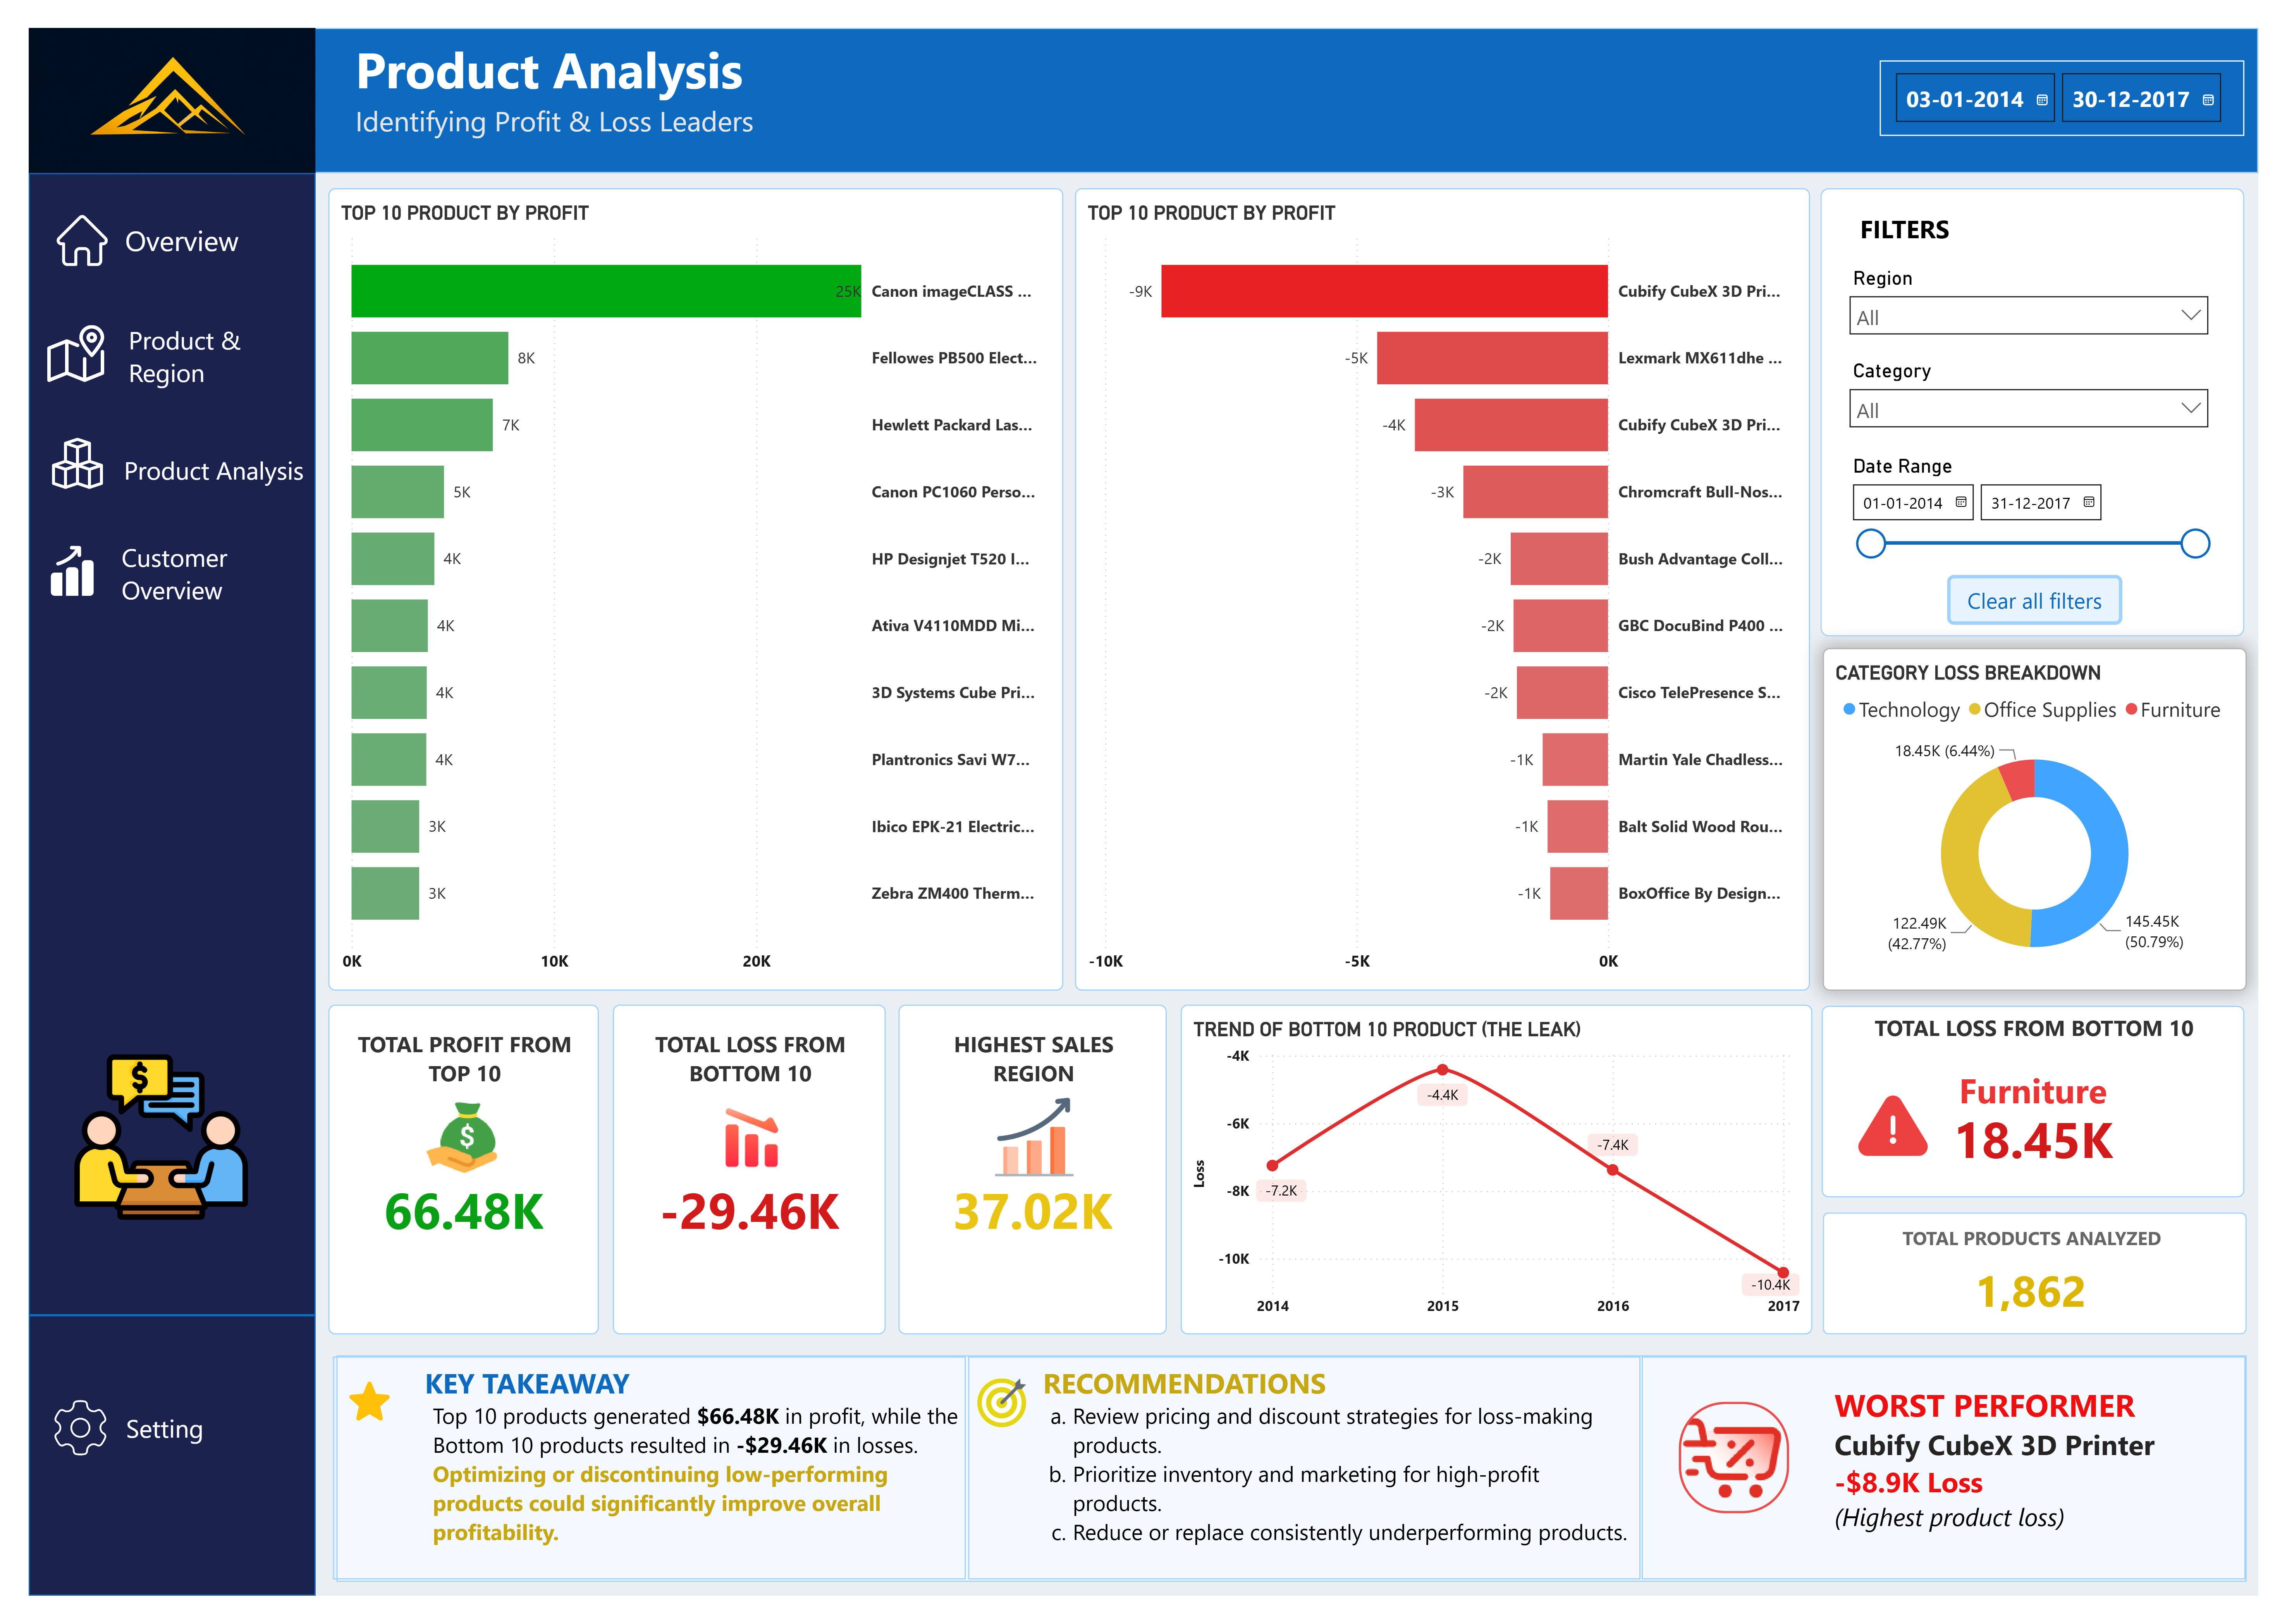

Layout of this report page (visuals, bound fields, positions):
{"tool":"powerbi","page":{"name":"ProductAnalysis","canvas":[1920,1350],"ordinal":2},"visuals":[{"type":"barChart","title":"TOP 10 PRODUCT BY PROFIT","fields":{"Category":["Superstore.Product Name"],"Y":["Sum(Superstore.Profit)"]},"box":[258.1,138.1,632.5,690.6],"z":0},{"type":"shape","box":[1543,138.1,365,386.4],"z":0,"group":"g4"},{"type":"image","box":[7.2,256.4,67.2,49.1],"z":0,"group":"g6"},{"type":"image","box":[4,352.8,76.3,43.6],"z":0,"group":"g8"},{"type":"image","box":[5.5,443.5,65.4,49.1],"z":0,"group":"g7"},{"type":"shape","box":[1544.8,1019.6,365.3,105.4],"z":0,"group":"g12"},{"type":"textbox","box":[808.7,1144,578.9,192.2],"z":0,"group":"g2"},{"type":"textbox","box":[1388.7,1144,520,192.2],"z":0,"group":"g3"},{"type":"group","id":"g1","title":"Group 8","box":[261.8,1144.5,545.3,191.7],"z":0,"group":"g11"},{"type":"textbox","box":[261.8,1144.5,545.3,191.7],"z":0,"group":"g1"},{"type":"barChart","title":"TOP 10 PRODUCT BY PROFIT","fields":{"Category":["Superstore.Product Name"],"Y":["Sum(Superstore.Profit)"]},"box":[901.5,138.1,632.5,690.6],"z":1000},{"type":"textbox","box":[81.3,249.1,172.7,76.3],"z":1000,"group":"g6"},{"type":"textbox","box":[76.7,360.7,174.5,56.3],"z":1000,"group":"g8"},{"type":"textbox","box":[76,436.2,171.2,85.4],"z":1000,"group":"g7"},{"type":"textbox","box":[1545.2,1026,359.3,38.2],"z":1000,"group":"g12"},{"type":"group","id":"g2","title":"Group 8","box":[808.7,1144,578.9,192.2],"z":1000,"group":"g11"},{"type":"cardVisual","title":"TOTAL PROFIT FROM TOP 10","fields":{"Data":["Superstore.Top 10 Profit"]},"box":[258.1,841.5,232.6,283.5],"z":2000},{"type":"cardVisual","fields":{"Data":["Count(Superstore.Product ID)"]},"box":[1622.2,1046.1,203.6,75.1],"z":2000,"group":"g12"},{"type":"group","id":"g3","title":"Group 8","box":[1388.7,1144,520,192.2],"z":2000,"group":"g11"},{"type":"cardVisual","title":"TOTAL LOSS FROM BOTTOM 10","fields":{"Data":["Superstore.Bottom 10 Loss"]},"box":[503.4,841.5,234.5,283.5],"z":3000},{"type":"cardVisual","title":"HIGHEST SALES REGION","fields":{"Data":["Superstore.Net Impact"]},"box":[748.8,841.5,230.8,283.5],"z":4000},{"type":"group","id":"g4","title":"Group 3","box":[1543,138.1,365,390.9],"z":5000},{"type":"group","id":"g5","title":"Group 1","box":[1558.2,152.8,329,376.2],"z":6000,"group":"g4"},{"type":"lineChart","title":"TREND OF BOTTOM 10 PRODUCT (THE LEAK)","fields":{"Category":["Superstore.Order Date.Variation.Date Hierarchy.Year"],"Y":["Sum(Superstore.Profit)"]},"box":[992.3,841.5,543.4,283.5],"z":6000},{"type":"donutChart","title":"CATEGORY LOSS BREAKDOWN","fields":{"Category":["Superstore.Category"],"Y":["Sum(Superstore.Profit)"]},"box":[1544.8,534.3,365.3,294.4],"z":7000},{"type":"textbox","box":[246.1,0,1673.9,125.4],"z":8000},{"type":"shape","box":[0,125,247.2,1225],"z":9000},{"type":"group","id":"g6","title":"Group 2","box":[7.2,249.1,246.8,76.3],"z":10000},{"type":"image","box":[6,161.3,80,43.6],"z":11000,"group":"g9"},{"type":"group","id":"g7","title":"Group 4","box":[5.5,436.2,241.7,85.4],"z":11000},{"type":"group","id":"g8","title":"Group 4","box":[4,352.8,247.2,64.2],"z":12000},{"type":"textbox","box":[77.5,161.5,145,48],"z":12002,"group":"g9"},{"type":"shape","box":[265.1,1142.6,1644.9,194.7],"z":12500,"group":"g10"},{"type":"group","id":"g9","title":"Group 5","box":[6,161.3,216.5,48.2],"z":13000},{"type":"image","box":[0,0,247.2,125.4],"z":14000},{"type":"group","id":"g10","title":"Group 7","box":[261.8,1142.6,1648.2,194.7],"z":15000},{"type":"slicer","fields":{"Values":["Superstore.Region"]},"box":[1558.2,200.1,329,81.8],"z":16000,"group":"g5"},{"type":"image","box":[810.6,1163.2,54.5,41.8],"z":16000},{"type":"group","id":"g11","title":"Group 6","box":[261.8,1144,1646.9,192.2],"z":16003,"group":"g10"},{"type":"textbox","box":[1572.1,152.8,132.4,48.8],"z":17000,"group":"g5"},{"type":"image","box":[276.3,1163.2,34.5,38.2],"z":17000},{"type":"slicer","fields":{"Values":["Superstore.Order Date"]},"box":[1593.6,27.7,314.4,65.2],"z":18000},{"type":"slicer","fields":{"Values":["Superstore.Category"]},"box":[1558.2,280,329,85.4],"z":18000,"group":"g5"},{"type":"slicer","fields":{"Values":["Date Table.Date"]},"box":[1558.2,361.8,329,167.2],"z":19000,"group":"g5"},{"type":"image","box":[19.8,879.8,187.8,150.3],"z":19000},{"type":"image","box":[19.8,1166.5,49.4,77.1],"z":20000},{"type":"textbox","box":[73.2,1186.3,152.2,57.3],"z":21000},{"type":"shape","box":[0,1079.5,247.1,57.3],"z":22000},{"type":"image","box":[1421.2,1183.2,94.5,96.3],"z":23000},{"type":"image","box":[338,917.8,72.7,74.5],"z":24000},{"type":"image","box":[588.9,917.8,67.2,74.5],"z":25000},{"type":"image","box":[832.4,917.8,67.2,74.5],"z":26000},{"type":"actionButton","box":[1652.1,470.7,150.8,43.6],"z":27000},{"type":"group","id":"g12","title":"Group 3","box":[1544.8,1019.6,365.3,105.4],"z":28000},{"type":"cardVisual","title":"TOTAL LOSS FROM BOTTOM 10","fields":{"Data":["Sum(Superstore.Profit)"],"Rows":["Superstore.Category"]},"box":[1544.2,842.3,363.8,165],"z":29000},{"type":"image","box":[1571.8,907.5,67.2,75.1],"z":30000}]}

Visuals, with their boxes in screenshot pixels (x1, y1, x2, y2), scaled from the page's 1920x1350 canvas onto the 2287x1624 screenshot:
"TOP 10 PRODUCT BY PROFIT" barChart: x1=308 y1=166 x2=1061 y2=997
shape: x1=1838 y1=166 x2=2273 y2=631
image: x1=9 y1=308 x2=89 y2=368
image: x1=5 y1=425 x2=96 y2=477
image: x1=7 y1=533 x2=84 y2=593
shape: x1=1840 y1=1227 x2=2275 y2=1353
textbox: x1=963 y1=1376 x2=1653 y2=1607
textbox: x1=1654 y1=1376 x2=2273 y2=1607
"Group 8" group: x1=312 y1=1377 x2=961 y2=1607
textbox: x1=312 y1=1377 x2=961 y2=1607
"TOP 10 PRODUCT BY PROFIT" barChart: x1=1074 y1=166 x2=1827 y2=997
textbox: x1=97 y1=300 x2=303 y2=391
textbox: x1=91 y1=434 x2=299 y2=502
textbox: x1=91 y1=525 x2=294 y2=628
textbox: x1=1840 y1=1234 x2=2268 y2=1280
"Group 8" group: x1=963 y1=1376 x2=1653 y2=1607
"TOTAL PROFIT FROM TOP 10" cardVisual: x1=308 y1=1012 x2=585 y2=1353
cardVisual - Count(Superstore.Product ID): x1=1932 y1=1258 x2=2175 y2=1349
"Group 8" group: x1=1654 y1=1376 x2=2273 y2=1607
"TOTAL LOSS FROM BOTTOM 10" cardVisual: x1=600 y1=1012 x2=879 y2=1353
"HIGHEST SALES REGION" cardVisual: x1=892 y1=1012 x2=1167 y2=1353
"Group 3" group: x1=1838 y1=166 x2=2273 y2=637
"Group 1" group: x1=1856 y1=184 x2=2248 y2=637
"TREND OF BOTTOM 10 PRODUCT (THE LEAK)" lineChart: x1=1182 y1=1012 x2=1829 y2=1353
"CATEGORY LOSS BREAKDOWN" donutChart: x1=1840 y1=643 x2=2275 y2=997
textbox: x1=293 y1=0 x2=2287 y2=151
shape: x1=0 y1=150 x2=294 y2=1624
"Group 2" group: x1=9 y1=300 x2=303 y2=391
image: x1=7 y1=194 x2=102 y2=246
"Group 4" group: x1=7 y1=525 x2=294 y2=628
"Group 4" group: x1=5 y1=425 x2=299 y2=502
textbox: x1=92 y1=194 x2=265 y2=252
shape: x1=316 y1=1375 x2=2275 y2=1609
"Group 5" group: x1=7 y1=194 x2=265 y2=252
image: x1=0 y1=0 x2=294 y2=151
"Group 7" group: x1=312 y1=1375 x2=2275 y2=1609
slicer - Superstore.Region: x1=1856 y1=241 x2=2248 y2=339
image: x1=966 y1=1399 x2=1030 y2=1450
"Group 6" group: x1=312 y1=1376 x2=2273 y2=1607
textbox: x1=1873 y1=184 x2=2030 y2=243
image: x1=329 y1=1399 x2=370 y2=1445
slicer - Superstore.Order Date: x1=1898 y1=33 x2=2273 y2=112
slicer - Superstore.Category: x1=1856 y1=337 x2=2248 y2=440
slicer - Date Table.Date: x1=1856 y1=435 x2=2248 y2=637
image: x1=24 y1=1058 x2=247 y2=1239
image: x1=24 y1=1403 x2=83 y2=1496
textbox: x1=87 y1=1427 x2=268 y2=1496
shape: x1=0 y1=1299 x2=294 y2=1368
image: x1=1693 y1=1423 x2=1806 y2=1539
image: x1=402 y1=1104 x2=489 y2=1194
image: x1=702 y1=1104 x2=782 y2=1194
image: x1=992 y1=1104 x2=1071 y2=1194
actionButton: x1=1968 y1=566 x2=2148 y2=619
"Group 3" group: x1=1840 y1=1227 x2=2275 y2=1353
"TOTAL LOSS FROM BOTTOM 10" cardVisual: x1=1839 y1=1013 x2=2273 y2=1212
image: x1=1872 y1=1092 x2=1952 y2=1182
